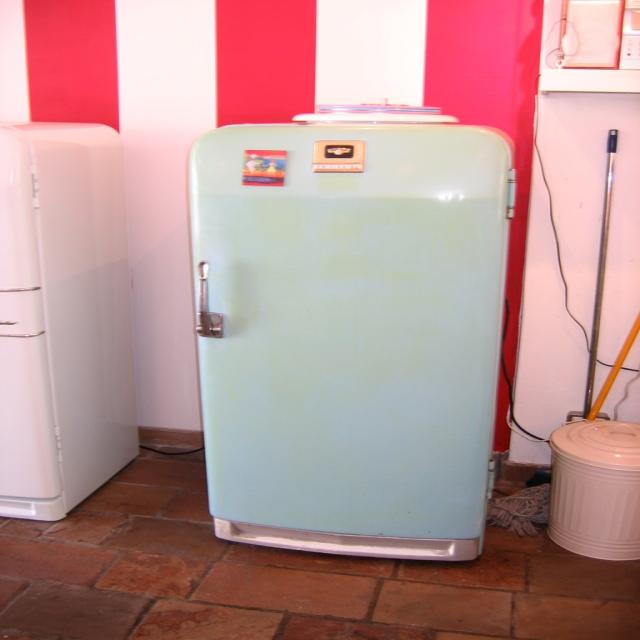obstacle: (155, 76, 526, 580), (0, 109, 142, 536), (540, 388, 640, 586)
